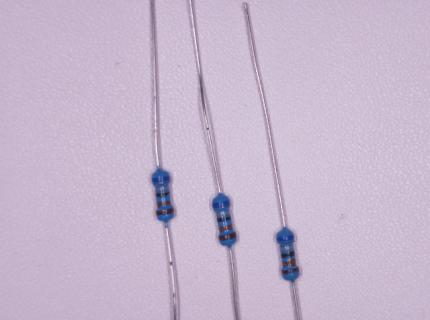Black band: (156, 192, 170, 198), (282, 252, 296, 258), (218, 217, 231, 223)
Blue band: (153, 176, 170, 183), (277, 235, 294, 242), (213, 201, 229, 208)
Brown band: (219, 233, 236, 241), (157, 208, 174, 215), (282, 268, 299, 275)
Grey band: (216, 211, 230, 217), (280, 245, 294, 251), (156, 186, 169, 191)
Orange band: (282, 258, 296, 268), (219, 225, 233, 232), (157, 201, 170, 208)
